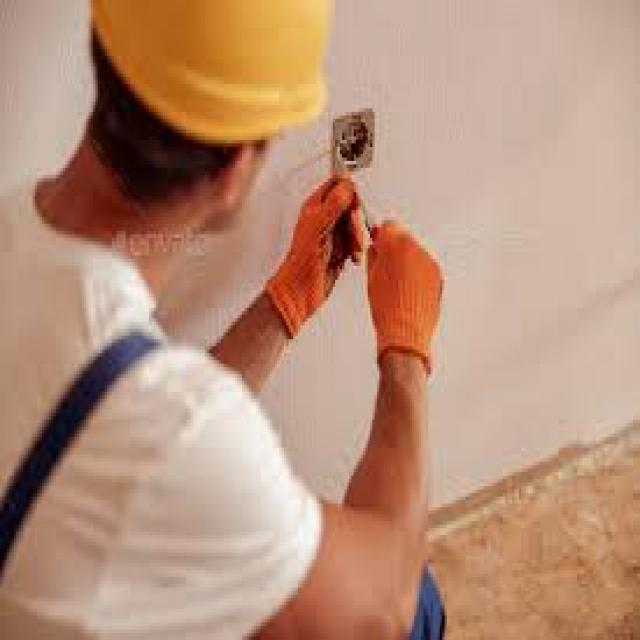screwdriver: (331, 140, 388, 262)
